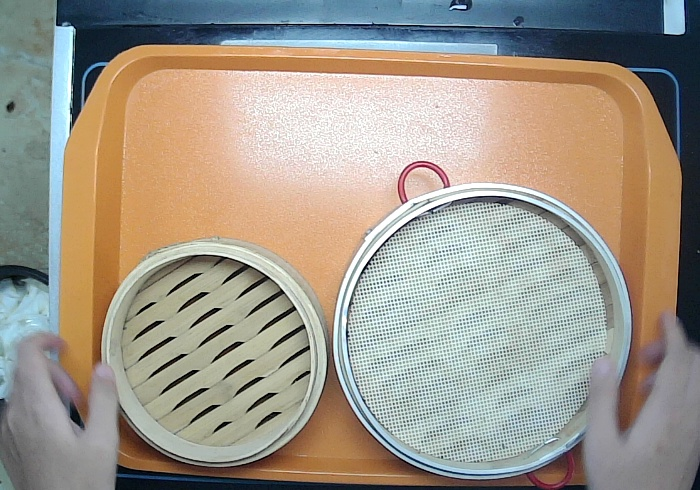ZNLD-Da_Zheng_Long: (331, 158, 635, 490)
ZNLD-Xiao_Zheng_Long: (99, 236, 333, 469)
